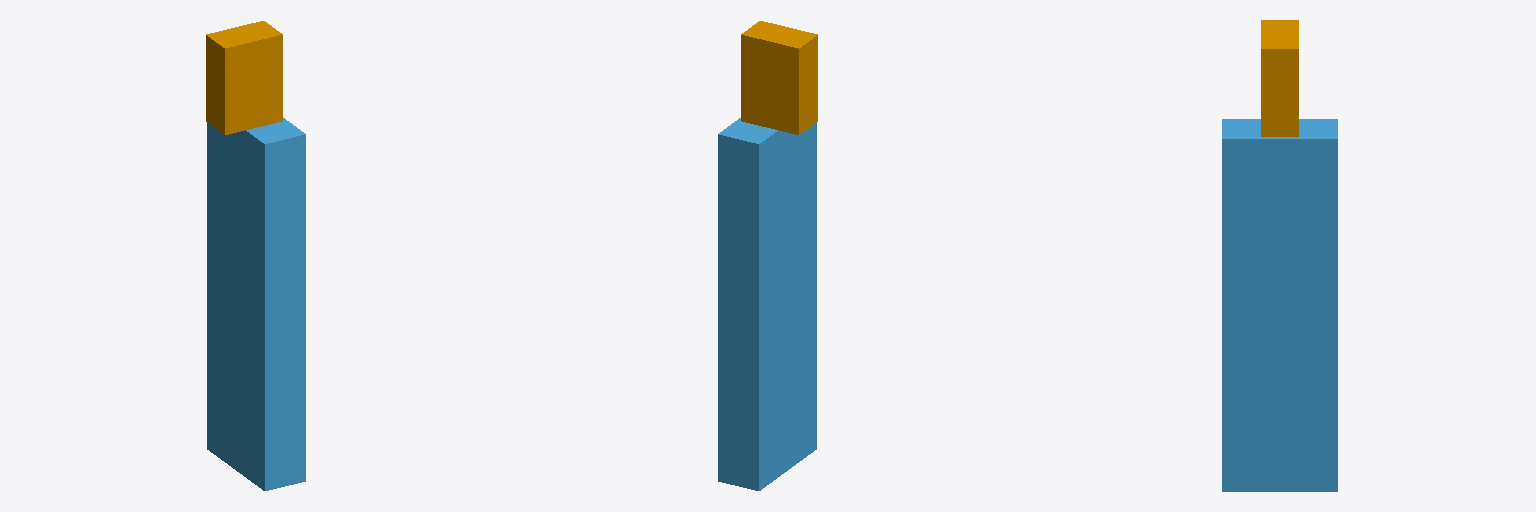
robot.urdf — gown_box:
<?xml version="1.0" ?>
<robot name="gown_box">
  <link name ="gripped_part">
    <!--<inertial>
        <mass value="3.92"/>
        <origin
                xyz="0.0 0.07825 0.0"
                rpy="0 0 0" />
    </inertial>-->
    <visual name="visual">
      <origin
        xyz="0.015 0.0 -0.03"
        rpy="0 0 0" />
      <geometry>
        <box size="0.07 0.04 0.1"/>
      </geometry>
      <!--<color>1.0 0.5 0.0</color>-->
    </visual>
    <collision name="collision">
      <origin
        xyz="0.015 0.0 -0.03"
        rpy="0 0 0" />
      <geometry>
        <box size="0.07 0.04 0.1"/>
      </geometry>
    </collision>
  </link>
  
  <joint name="gripped_to_gown" type="fixed">
    <origin
      xyz="0.03 0. -0.08"
      rpy="0 0 0" />
    <parent link ="gripped_part"/>
    <child link ="gown"/>
  </joint>
  
  <link name ="gown">
    <!--<inertial>
        <mass value="3.92"/>
        <origin
                xyz="0.0 0.07825 0.0"
                rpy="0 0 0" />
    </inertial>-->
    <visual name="visual">
      <origin
        xyz="0.0 0.0 -0.2"
        rpy="0 0 0" />
      <geometry>
        <box size="0.05 0.12 0.4"/>
      </geometry>
      <!--<color>1.0 0.5 0.0</color>-->
    </visual>
    <collision name="collision">
      <origin
        xyz="0.0 0.0 -0.2"
        rpy="0 0 0" />
      <geometry>
        <box size="0.08 0.12 0.4"/>
      </geometry>
    </collision>
  </link>
</robot>

--- Facts derived from the render (not from the file) ---
3 views of the same robot in one strip: view 1: azimuth 30°, elevation 25°; view 2: azimuth 150°, elevation 25°; view 3: azimuth 270°, elevation 25° (orthographic).
Robot: gown_box — 2 links, 1 joints (1 fixed); root link gripped_part; default pose: every joint at zero.
Visible links, largest first — view 1: gown, gripped_part; view 2: gown, gripped_part; view 3: gown, gripped_part.
Link boxes in pixels (x1=…): gown: x1=207, y1=118, x2=305, y2=490; gripped_part: x1=206, y1=21, x2=282, y2=134; gown: x1=718, y1=118, x2=816, y2=490; gripped_part: x1=741, y1=21, x2=817, y2=134; gown: x1=1222, y1=119, x2=1337, y2=491; gripped_part: x1=1261, y1=20, x2=1298, y2=136.
Bounding box of the posed robot: 0.075 × 0.12 × 0.5 m (x, y, z).
Geometry: primitives only (box / cylinder / sphere), no mesh files.